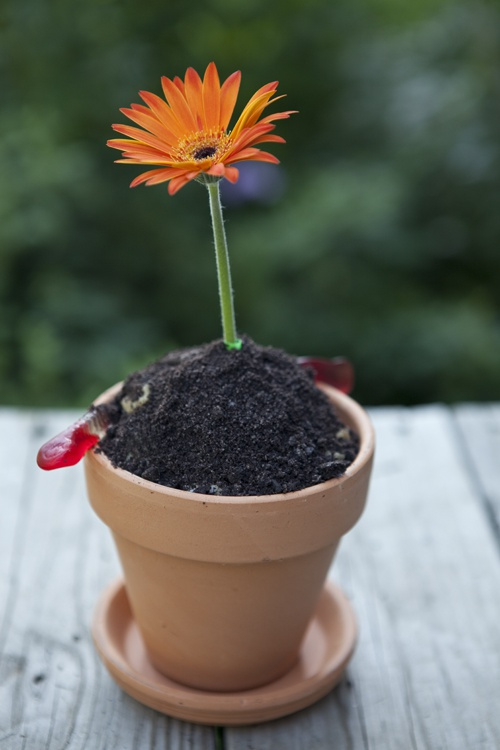flowerpot: (73, 389, 375, 727)
